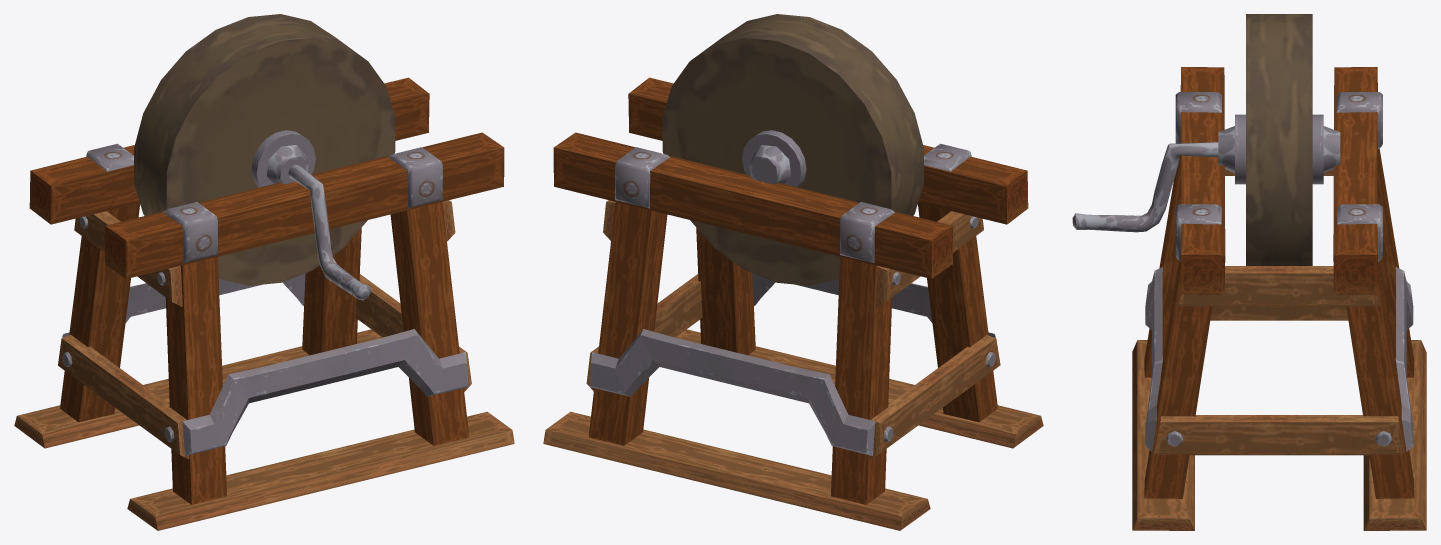
Rendered from Whetstone.gltf.
The picture shows the model from 3 angles, left to right: view 1: azimuth 30°, elevation 25°; view 2: azimuth 150°, elevation 25°; view 3: azimuth 270°, elevation 25°; orthographic projection. The views are drawn at different scales.
Parts seen in each view (by area): view 1: Whetstone; view 2: Whetstone; view 3: Whetstone.
Part boxes in pixels (left/top/right/bottom): Whetstone: left=14, top=14, right=514, bottom=530; Whetstone: left=543, top=14, right=1043, bottom=530; Whetstone: left=1072, top=14, right=1426, bottom=530.
Size of the model in its own units: 1.14 by 1.17 by 0.9018.
3 materials, 3 textured.
